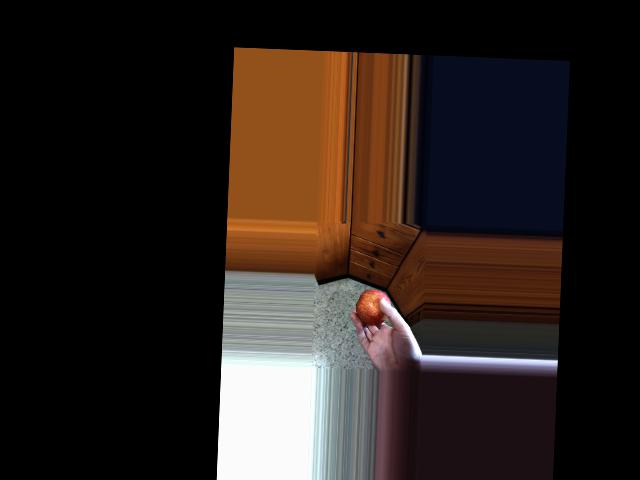apple: (352, 284, 396, 332)
